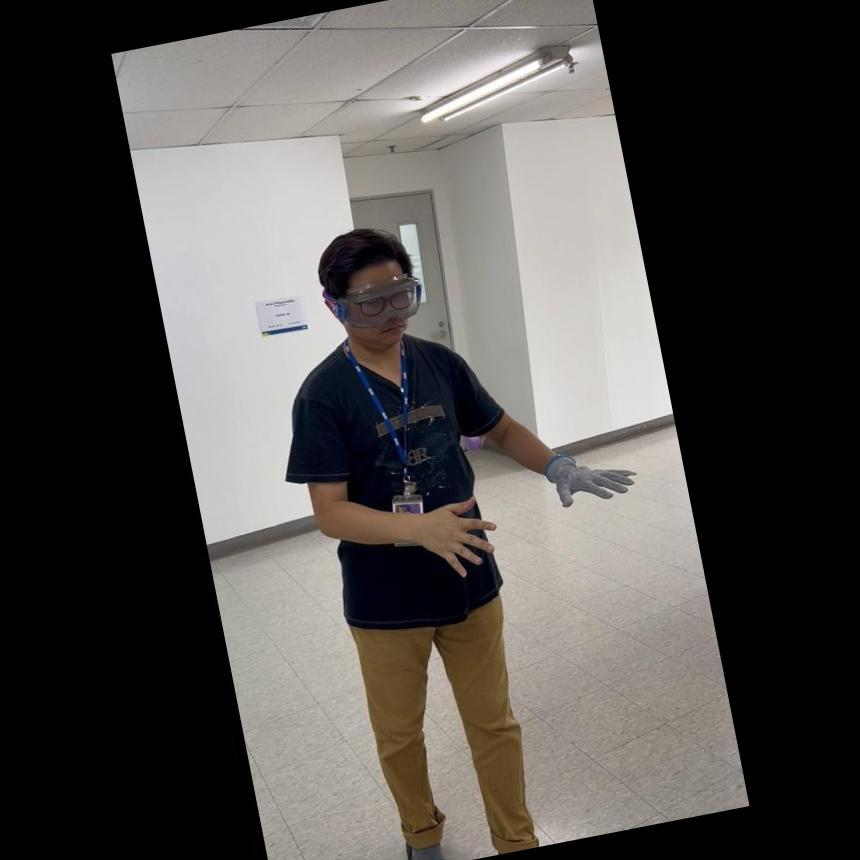Gloves: (535, 434, 636, 514)
No-gloves: (404, 489, 502, 579)
